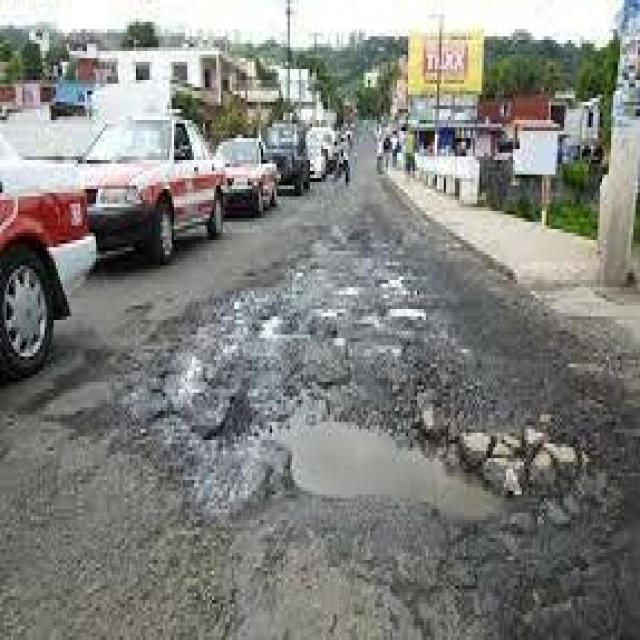Pothole: (152, 294, 602, 564)
